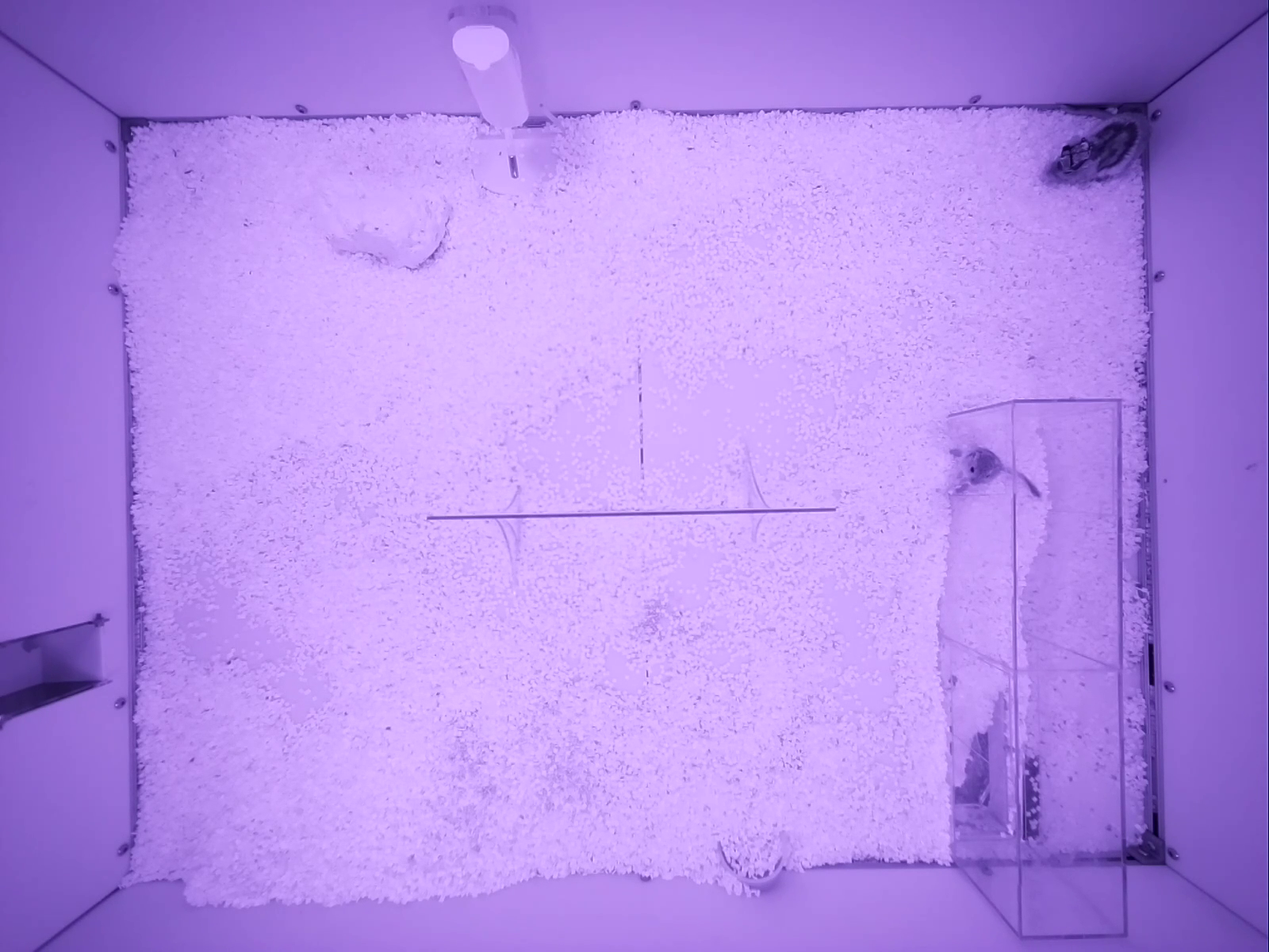adult_back: (1044, 107, 1150, 185), (950, 447, 1041, 497)
